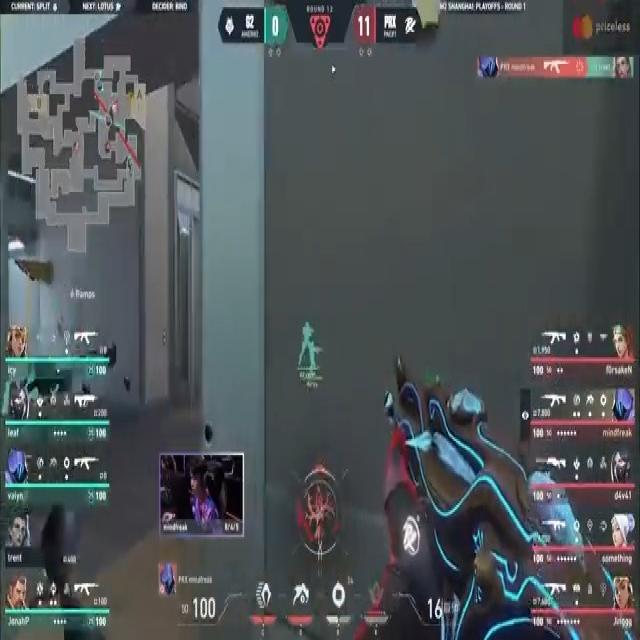ally behind wall: (301, 316, 316, 380)
